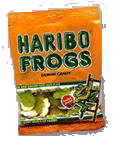grozi_106: (8, 5, 106, 136)
